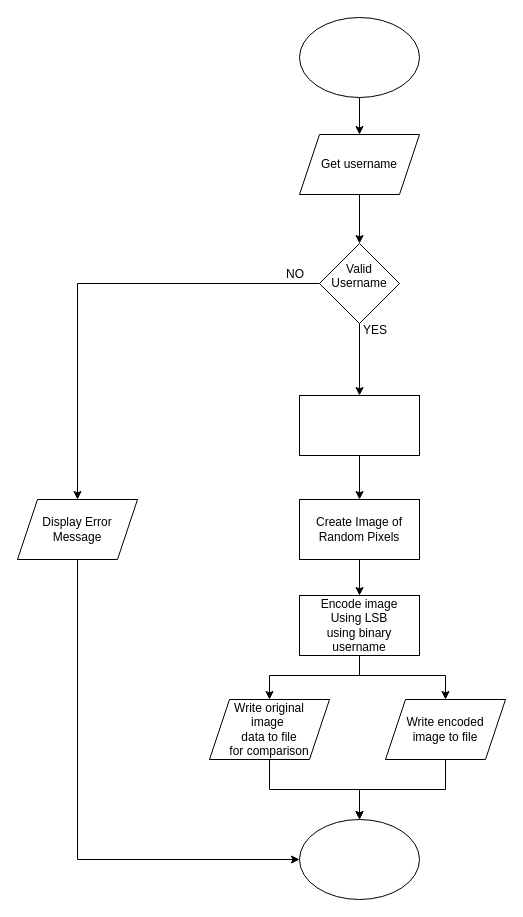
The diagram is 523 pixels wide and 917 high, and some of its shapes have lost their labels. Here are the shapes that lost their labels. From the top down, the box of each, then its label:
(298, 16, 420, 98): Start
(298, 394, 420, 456): Convert username to Binary
(298, 818, 420, 900): End
